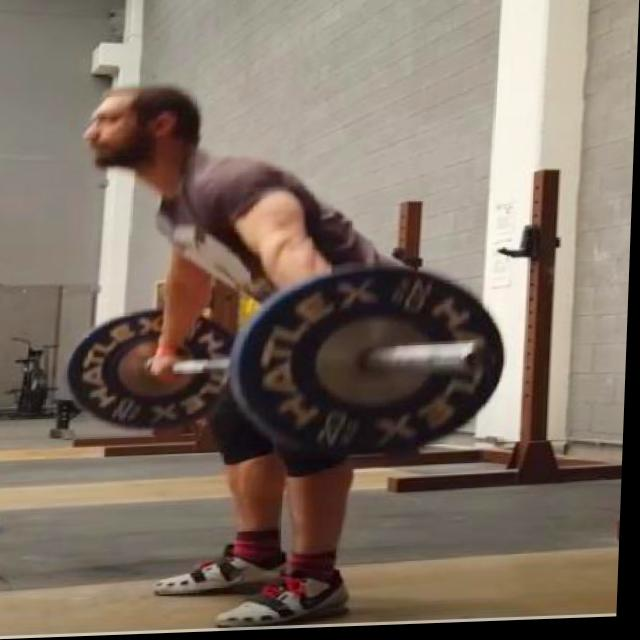barbell: (227, 260, 519, 477)
